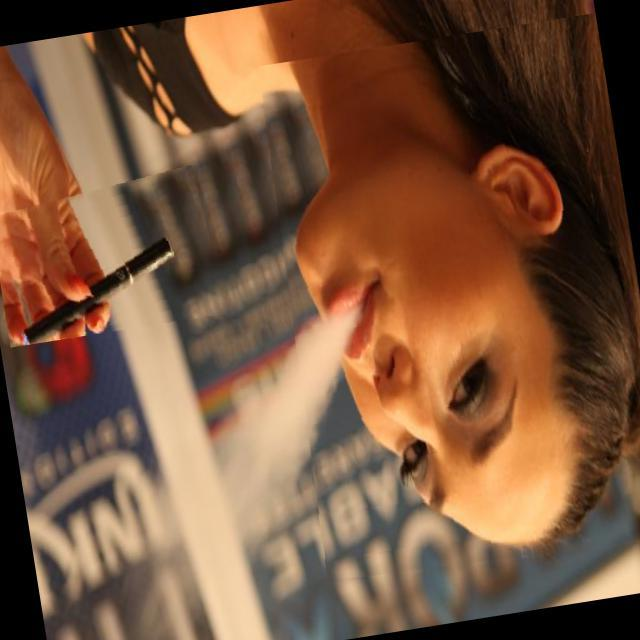cigarette: (0, 163, 229, 348)
